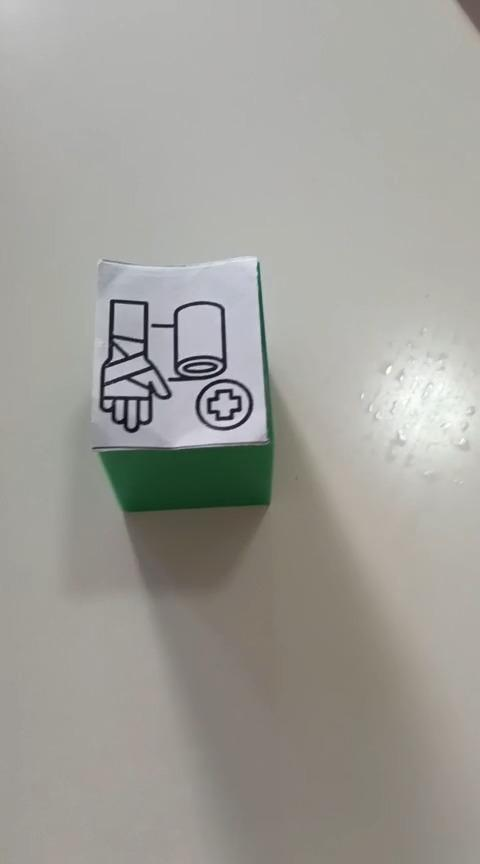Bandages: (89, 254, 274, 513)
